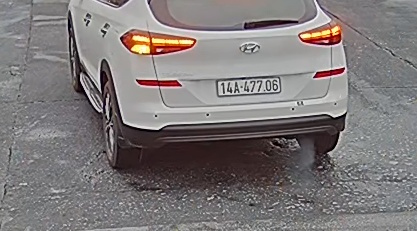vehicle plate: (213, 78, 282, 99)
